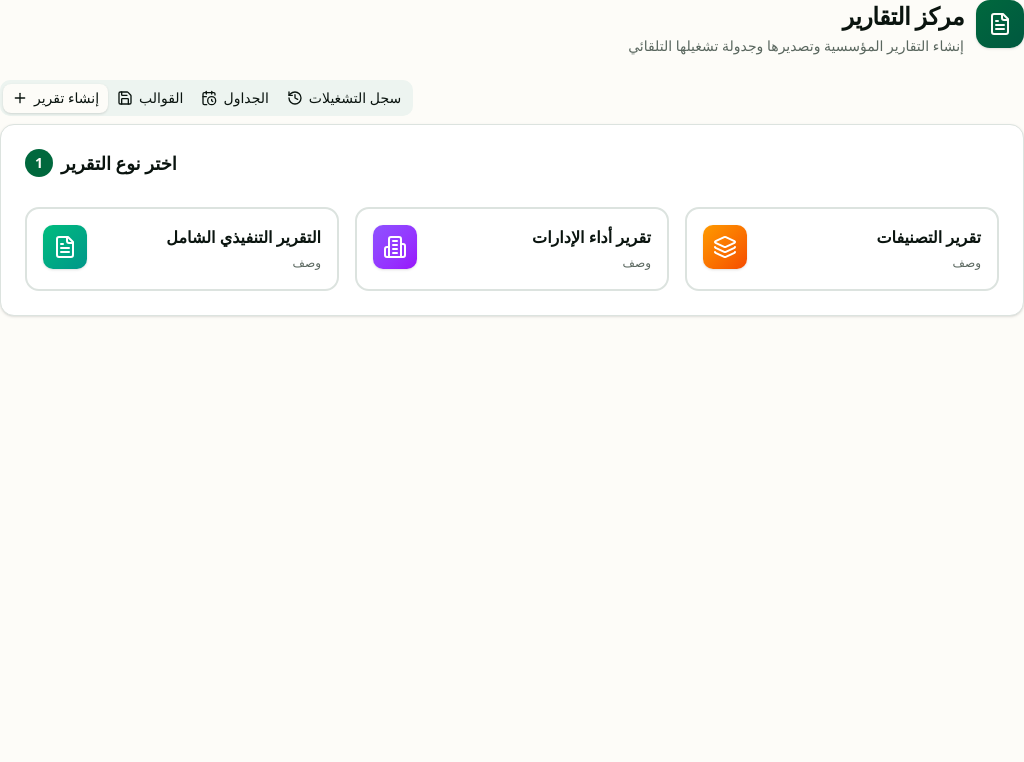
Test case: ReportsCenter › shows all report modes for executive reports with digital selected by default
Click the heading "التقرير التنفيذي الشامل".
click(244, 237)  # box x1=166 y1=226 x2=321 y2=248
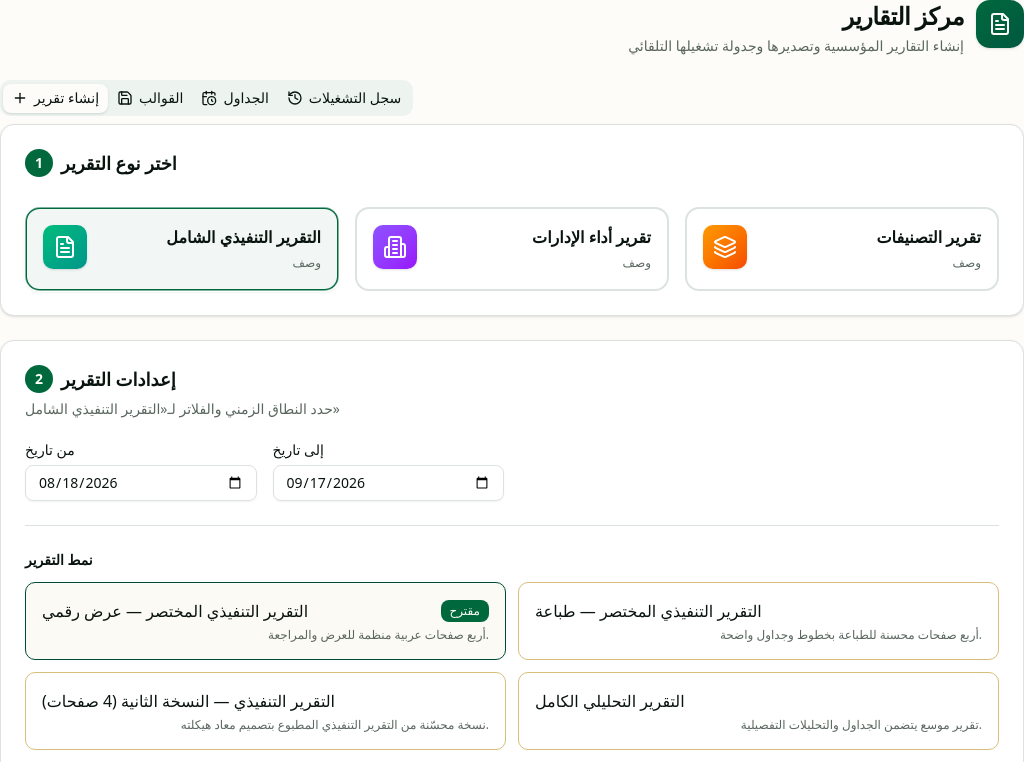
Check: the text "نمط التقرير" is shown, box x1=25 y1=550 x2=93 y2=570
Check: the radio button labelled "التقرير التنفيذي المختصر — طباعة" is shown, box x1=518 y1=582 x2=999 y2=660
Check: the radio button labelled "التقرير التحليلي الكامل" is shown, box x1=518 y1=672 x2=999 y2=750
